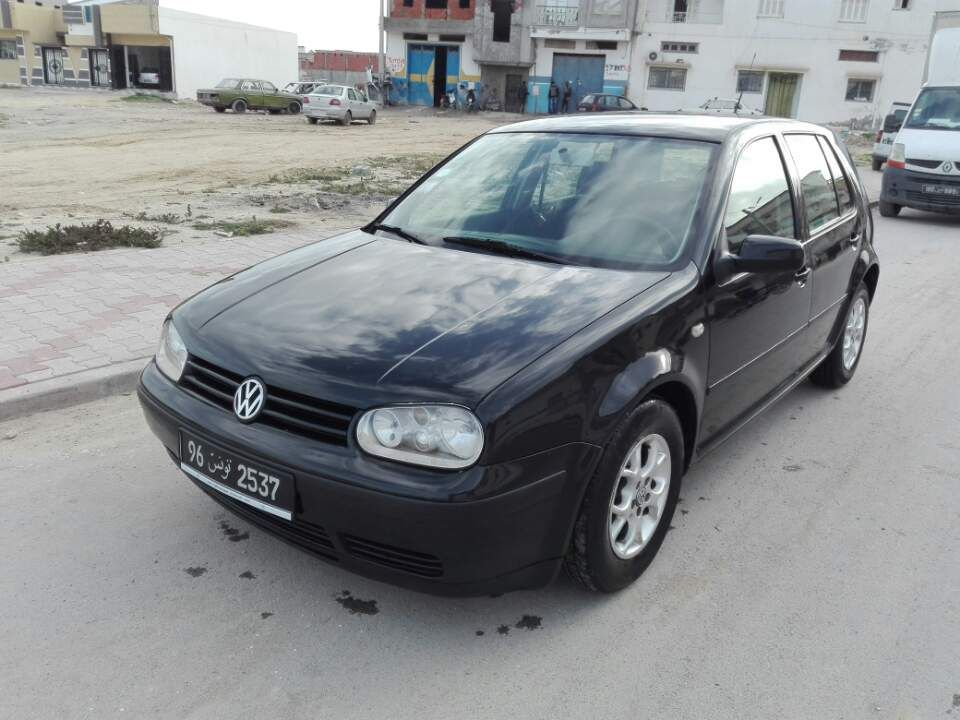LP: (178, 427, 293, 516)
